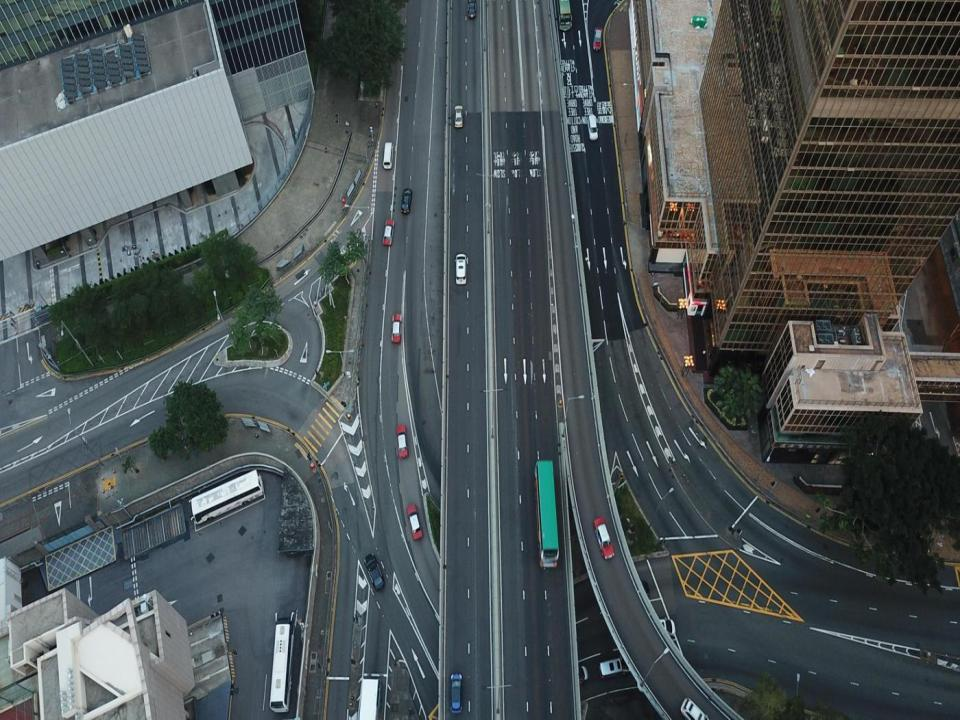bus: (188, 468, 265, 525), (534, 460, 559, 568), (270, 610, 294, 713), (357, 676, 383, 719), (557, 0, 572, 31)
car: (593, 517, 615, 559), (598, 656, 634, 678), (364, 554, 384, 590), (680, 696, 710, 719), (407, 503, 423, 542), (650, 617, 676, 637), (395, 424, 409, 460), (451, 672, 462, 714), (565, 664, 588, 682), (625, 581, 649, 598), (454, 253, 466, 285), (391, 314, 402, 342), (383, 218, 394, 245), (401, 188, 412, 215), (452, 105, 464, 127), (592, 26, 603, 50), (467, 1, 476, 18)
van: (382, 142, 394, 170), (587, 114, 599, 141)
